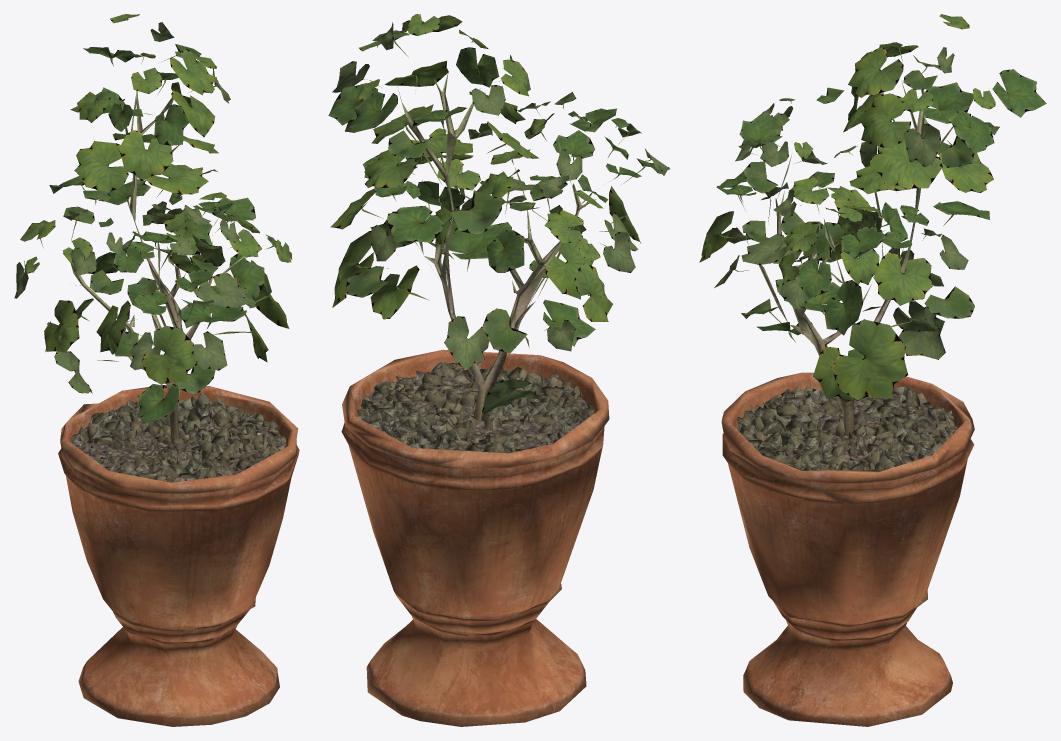
Rendered from tallplant.glb.
3 renders of one model, left to right at view 1: azimuth 30°, elevation 25°; view 2: azimuth 150°, elevation 25°; view 3: azimuth 270°, elevation 25°, orthographic. The views are drawn at different scales.
Visible parts, largest first — view 1: potted_plant_01_stem, potted_plant_01_leaves; view 2: potted_plant_01_stem, potted_plant_01_leaves; view 3: potted_plant_01_stem, potted_plant_01_leaves.
Part boxes in pixels (box(x1,y1,x2,y2)): potted_plant_01_stem: box(58, 89, 299, 726); potted_plant_01_leaves: box(14, 14, 292, 423); potted_plant_01_stem: box(341, 71, 609, 726); potted_plant_01_leaves: box(328, 14, 669, 414); potted_plant_01_stem: box(721, 81, 974, 726); potted_plant_01_leaves: box(699, 14, 1046, 401).
Bounding box in the file's own units: 0.5866 × 1.33 × 0.6336.
2 materials, 2 textured.
